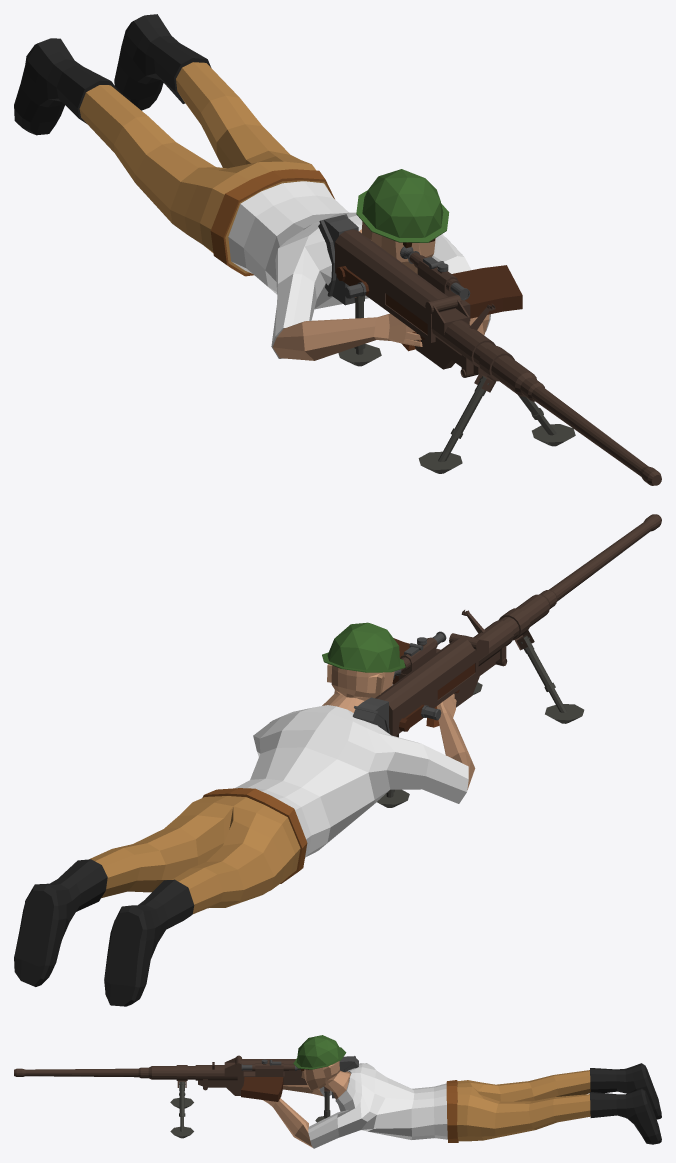
File: PejuangA-Tank.fbx
3 views of the same model, one above another, from view 1: azimuth 30°, elevation 25°; view 2: azimuth 150°, elevation 25°; view 3: azimuth 270°, elevation 25° (orthographic). The views are drawn at different scales.
Parts seen in each view (by area): view 1: Solothrum; view 2: Solothrum; view 3: Solothrum.
Part boxes in pixels (x1,y1,x2,y2): Solothrum: (14,14,661,485); Solothrum: (14,514,661,1006); Solothrum: (14,1035,661,1148).
Bounding box in the file's own units: 62.22 × 53.39 × 318.
